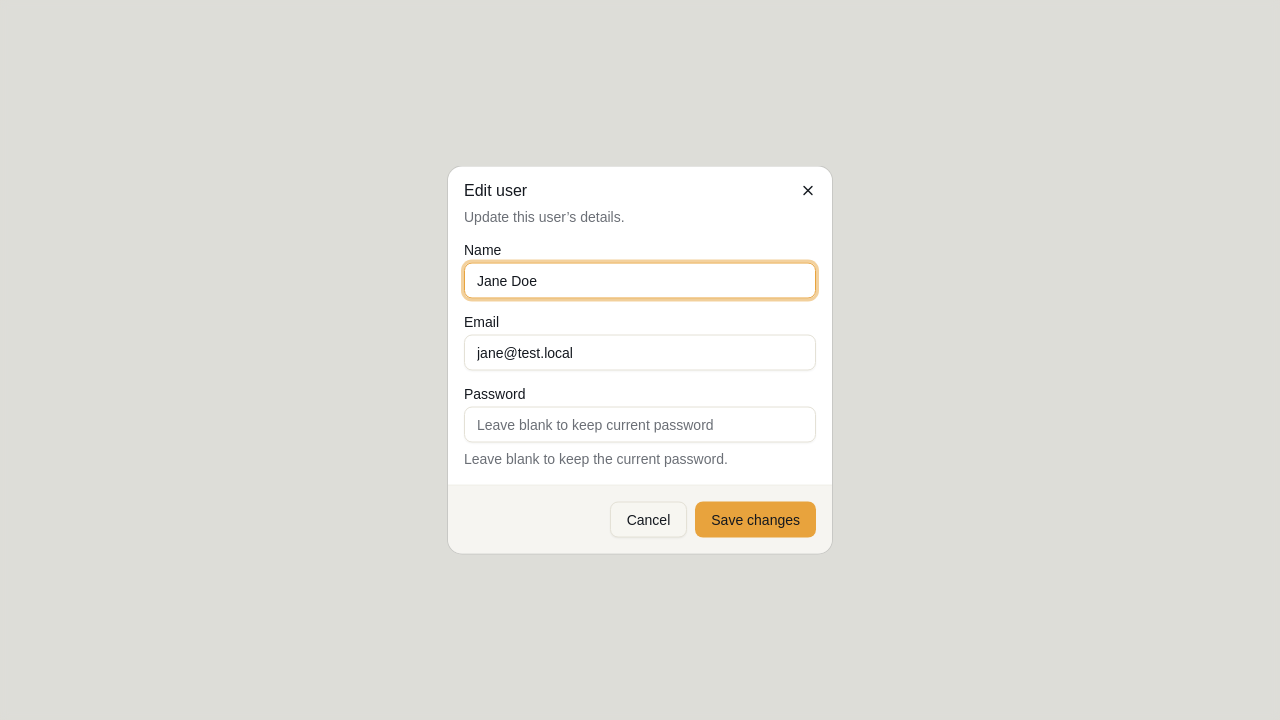
Test: UserFormModal — edit mode › shows a conflict message and keeps the modal open when the email is already taken
What coordinates should you click on to do the following:
click the button "Save changes"
I would click on:
 (756, 520)
Its box is [695, 502, 816, 538].
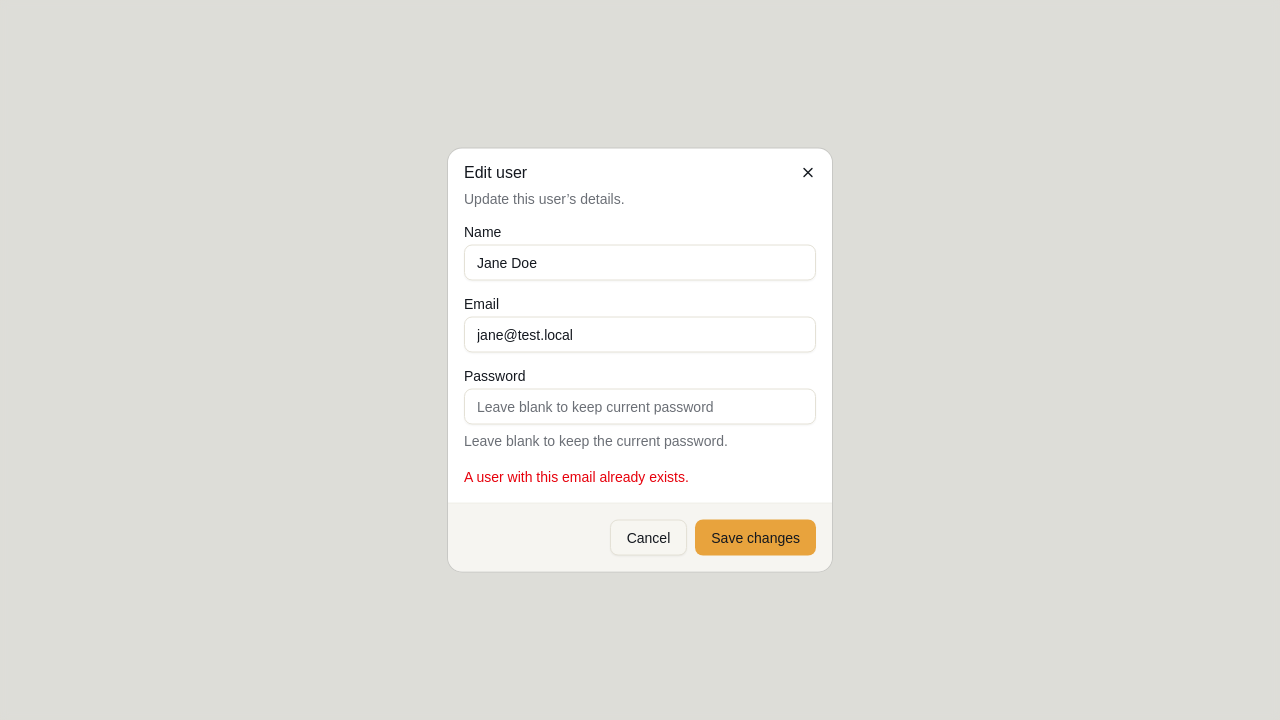
Result: the text "A user with this email already exists." is shown at [464, 468, 689, 484]
